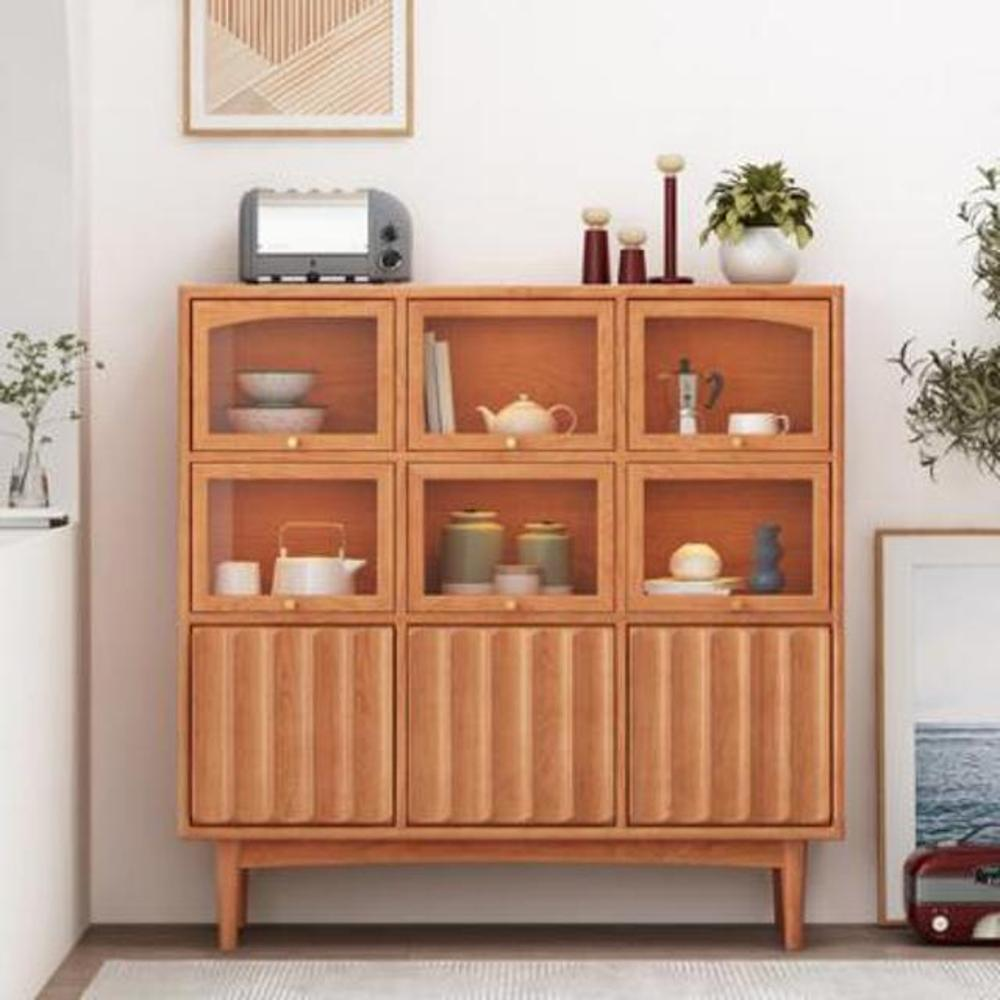lamp: (171, 279, 850, 849)
